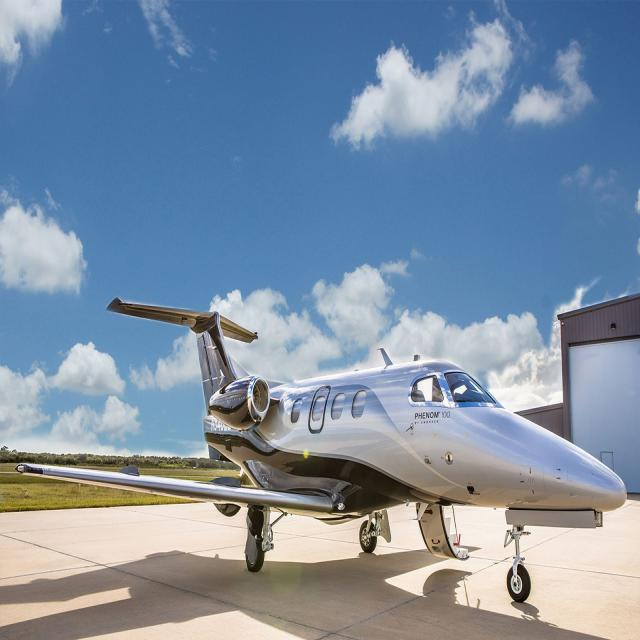jet: (5, 170, 640, 640)
